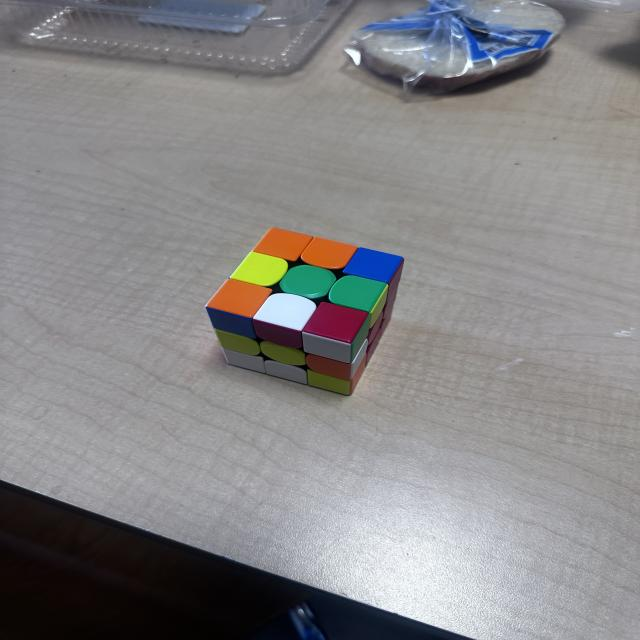sticker: (339, 246, 405, 323), (300, 301, 374, 363), (205, 278, 273, 339), (252, 292, 318, 349), (328, 274, 390, 324), (342, 246, 405, 284), (228, 251, 290, 288), (252, 227, 313, 263), (279, 264, 336, 300), (300, 236, 359, 270), (305, 351, 363, 383), (306, 368, 356, 396), (214, 329, 263, 357), (220, 346, 267, 374), (263, 358, 309, 386), (259, 341, 308, 366)
